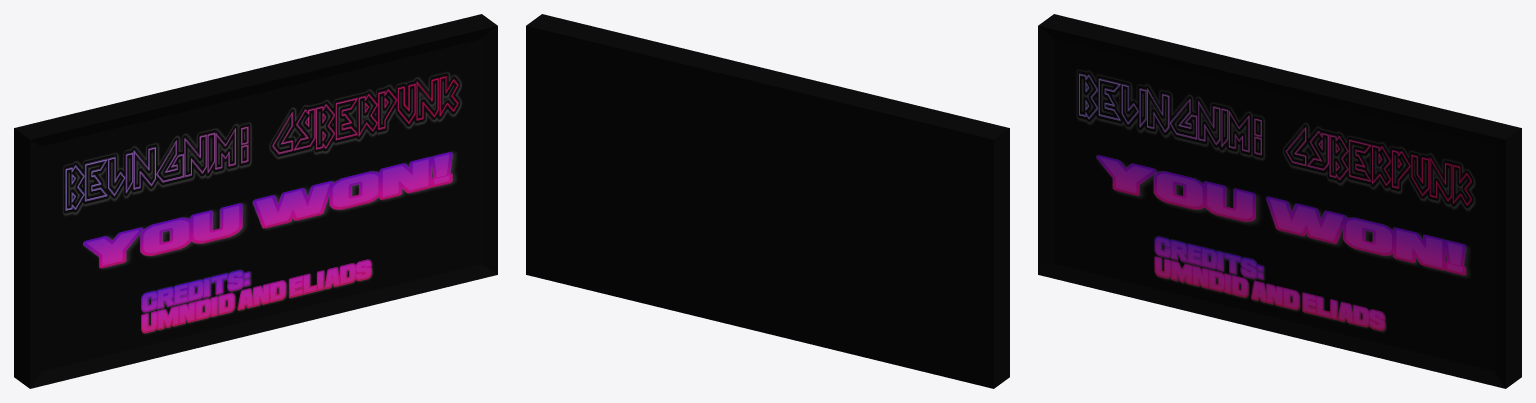
Rendered from credits.fbx.
The picture shows the model from 3 angles, left to right: view 1: azimuth 30°, elevation 25°; view 2: azimuth 150°, elevation 25°; view 3: azimuth 330°, elevation 25°; orthographic projection.
Visible parts, largest first — view 1: pCube3; view 2: pCube3; view 3: pCube3.
Boxes of the visible parts, x1,y1,x2,y2 form: pCube3: [14, 14, 497, 388]; pCube3: [526, 14, 1009, 388]; pCube3: [1038, 14, 1521, 388].
Size of the model in its own units: 2.54 by 1.29 by 0.1505.
